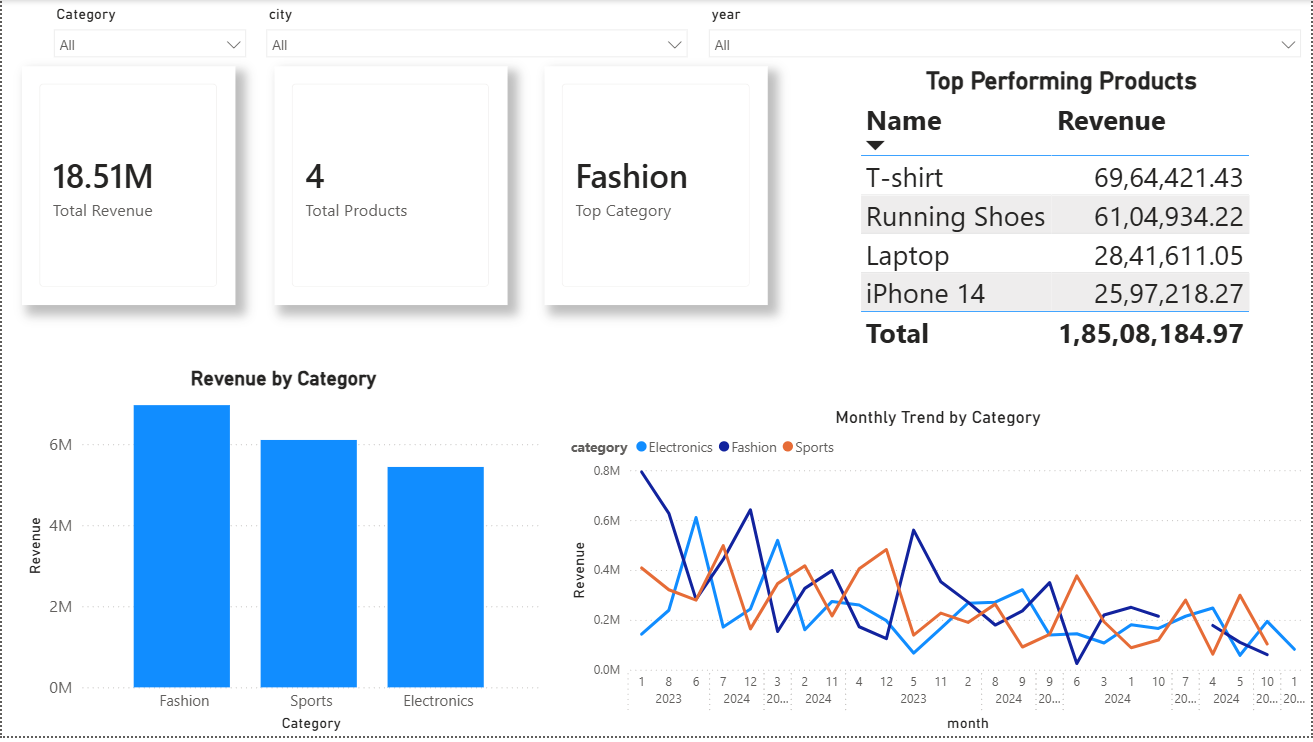

The page's visual inventory and layout, read from the dashboard file:
{"tool":"powerbi","page":{"name":"Products","canvas":[1280,720],"ordinal":2},"visuals":[{"type":"clusteredColumnChart","fields":{"Category":["public dimproduct.category"],"Y":["public factsales.Measure"]},"box":[19.2,359.5,511.8,360.9],"z":0},{"type":"lineChart","title":"Monthly Trend by Category","fields":{"Category":["public dimdate.year","public dimdate.month"],"Y":["public factsales.Revenue"],"Series":["public dimproduct.category"]},"box":[551.6,397.9,728.6,322.5],"z":1000},{"type":"tableEx","title":"Top Performing Products","fields":{"Values":["public dimproduct.name","public factsales.Revenue"]},"box":[834.3,64.5,404.8,319.7],"z":2000},{"type":"actionButton","box":[0,0,100,40],"z":3000},{"type":"slicer","fields":{"Values":["public dimproduct.category"]},"box":[39.8,0,208.6,86.4],"z":4000},{"type":"slicer","fields":{"Values":["public dimdate.year"]},"box":[680.6,0,599.7,64.5],"z":5000},{"type":"slicer","fields":{"Values":["DimCustomer_Current.city"]},"box":[248.4,0,432.2,86.4],"z":6000},{"type":"cardVisual","fields":{"Data":["public factsales.Revenue"]},"box":[19.2,64.5,208.6,233.3],"z":6001},{"type":"cardVisual","fields":{"Data":["CountNonNull(public dimproduct.product_id)"]},"box":[266.2,64.5,227.8,233.3],"z":6002},{"type":"cardVisual","fields":{"Data":["DimCustomer_Current.Top Category"]},"box":[531,64.5,218.2,233.3],"z":6003}]}

Visuals, with their boxes in screenshot pixels (x1, y1, x2, y2), scaled from the page's 1280x720 canvas onto the 1313x742 screenshot:
clusteredColumnChart - public dimproduct.category x public factsales.Measure: bbox=(20, 370, 545, 741)
"Monthly Trend by Category" lineChart: bbox=(566, 410, 1312, 741)
"Top Performing Products" tableEx: bbox=(856, 66, 1271, 396)
actionButton: bbox=(0, 0, 103, 41)
slicer - public dimproduct.category: bbox=(41, 0, 255, 89)
slicer - public dimdate.year: bbox=(698, 0, 1312, 66)
slicer - DimCustomer_Current.city: bbox=(255, 0, 698, 89)
cardVisual - public factsales.Revenue: bbox=(20, 66, 234, 307)
cardVisual - CountNonNull(public dimproduct.product_id): bbox=(273, 66, 507, 307)
cardVisual - DimCustomer_Current.Top Category: bbox=(545, 66, 769, 307)
